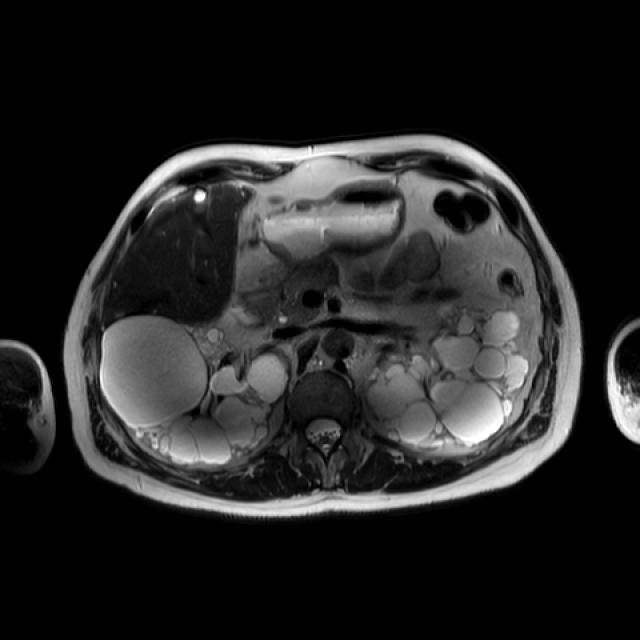sag: (99, 314, 291, 469)
sol: (359, 301, 533, 456)
